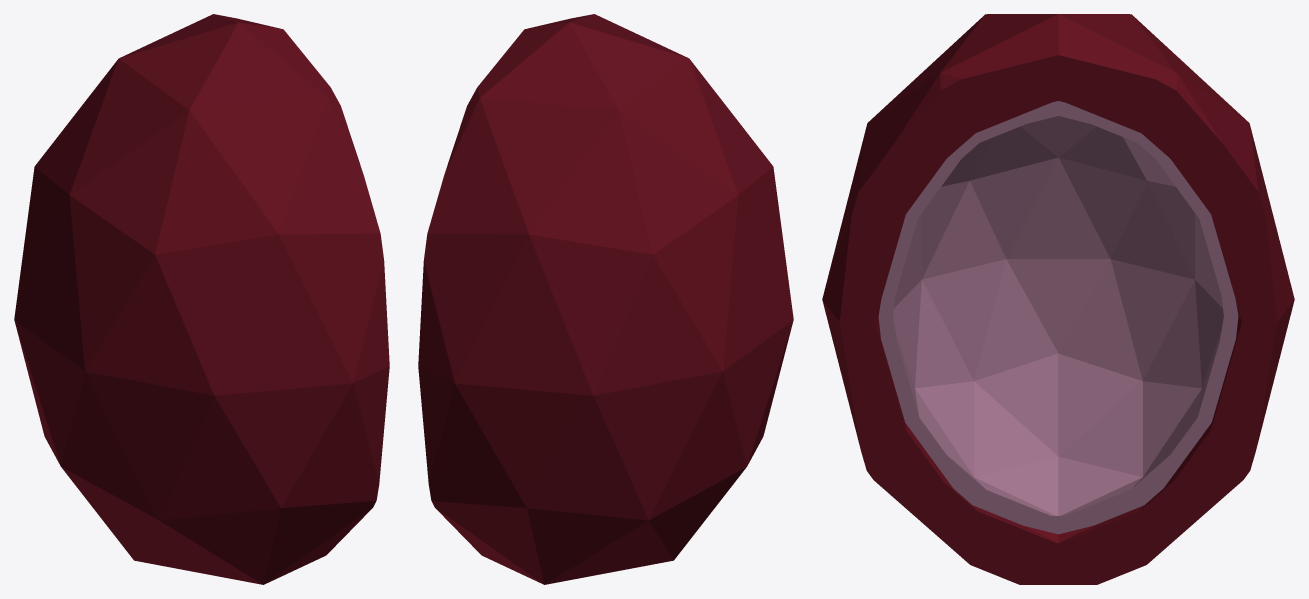
File: geodemerged.fbx
3 renders of one model, left to right at view 1: azimuth 30°, elevation 25°; view 2: azimuth 150°, elevation 25°; view 3: azimuth 270°, elevation 25°, orthographic. The views are drawn at different scales.
Parts seen in each view (by area): view 1: Saltlayer; view 2: Saltlayer; view 3: Saltlayer.
Part boxes in pixels (x1,y1,x2,y2): Saltlayer: (14,14,389,584); Saltlayer: (418,14,793,584); Saltlayer: (822,14,1294,584).
Bounding box in the file's own units: 1414 × 3200 × 2400.
